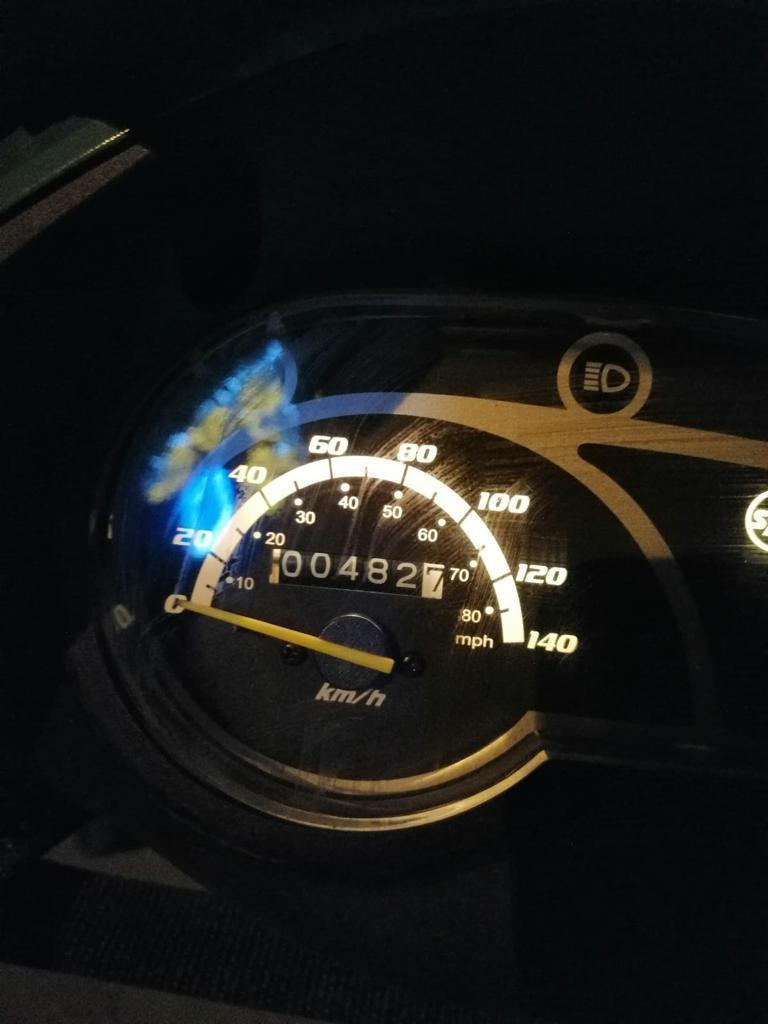0: (307, 549, 332, 580), (279, 548, 303, 579)
2: (394, 559, 418, 589)
4: (335, 553, 360, 582)
7: (424, 564, 446, 593)
8: (366, 555, 390, 587)
odometer: (261, 543, 451, 604)
